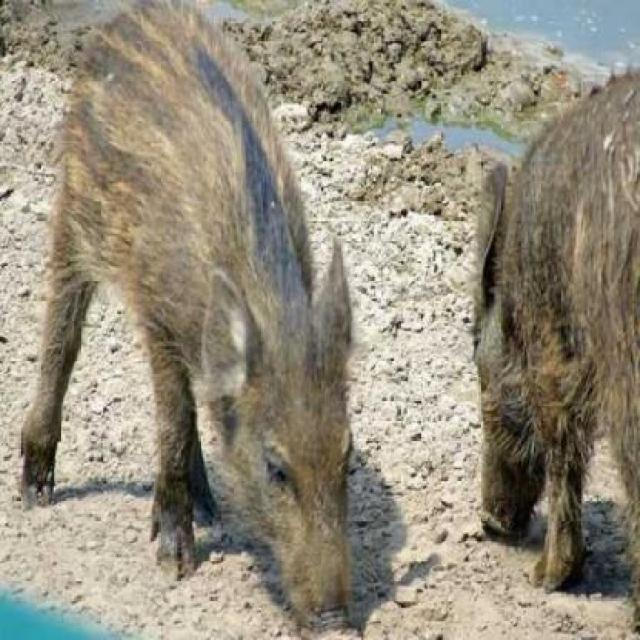Boar: (22, 0, 360, 609)
